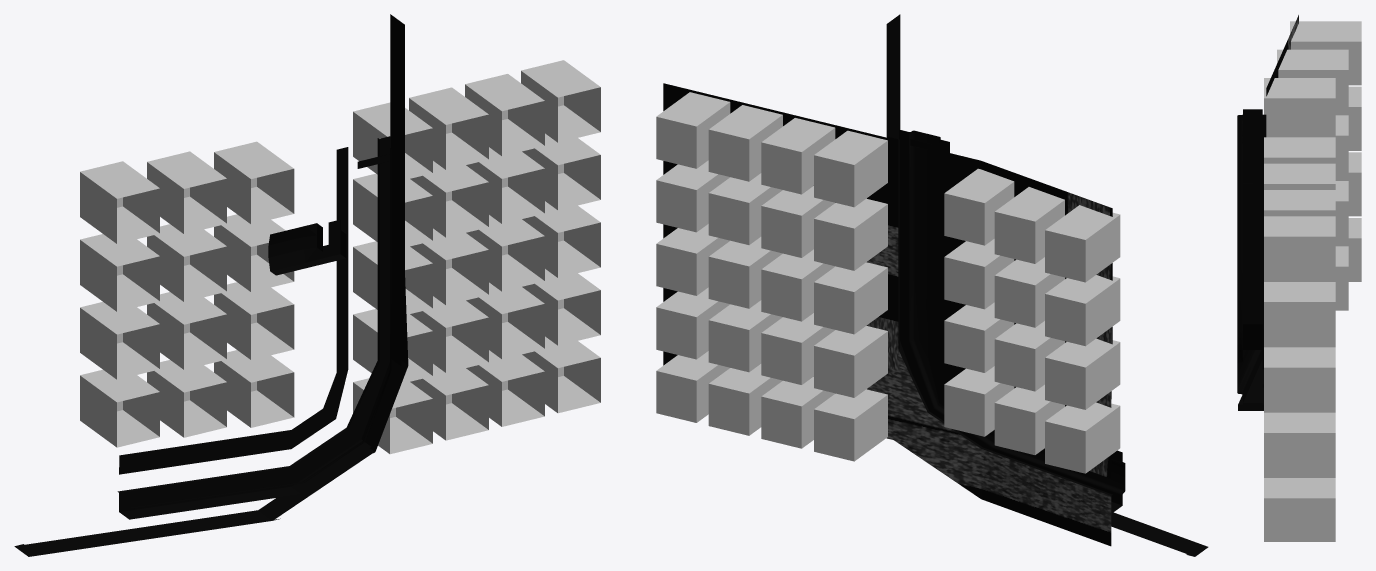
File: areashadow.dae
3 renders of one model, left to right at view 1: azimuth 30°, elevation 25°; view 2: azimuth 150°, elevation 25°; view 3: azimuth 270°, elevation 25°, orthographic. The views are drawn at different scales.
Visible parts, largest first — view 1: apartments.002, Plane; view 2: apartments.002, Plane; view 3: apartments.002, Plane.
Part boxes in pixels (x1,y1,x2,y2): apartments.002: (80, 60, 600, 454); Plane: (14, 14, 408, 556); apartments.002: (656, 92, 1120, 473); Plane: (663, 14, 1208, 556); apartments.002: (1264, 21, 1361, 541); Plane: (1237, 15, 1298, 410).
Size of the model in its own units: 403 by 76.11 by 314.
